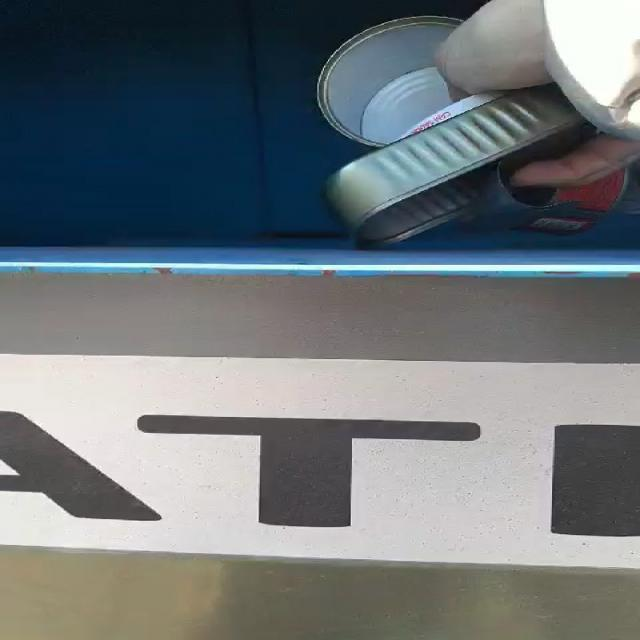Bin: (0, 0, 640, 640)
Metal: (319, 17, 627, 247)
